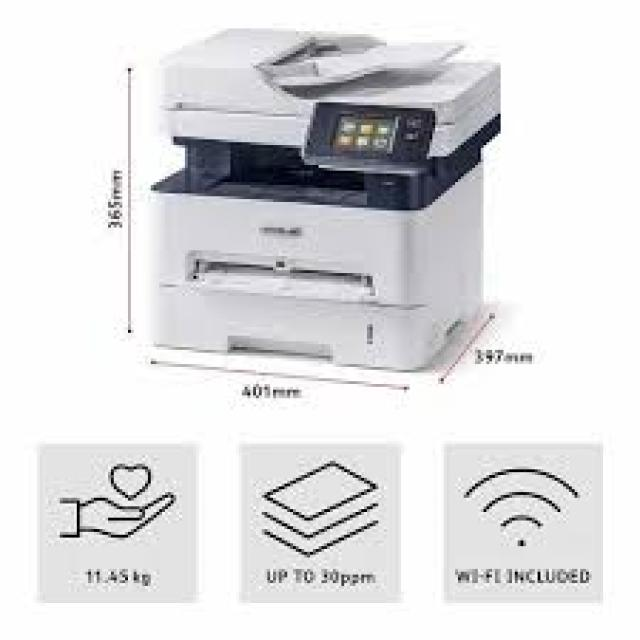printer: (142, 23, 501, 375)
